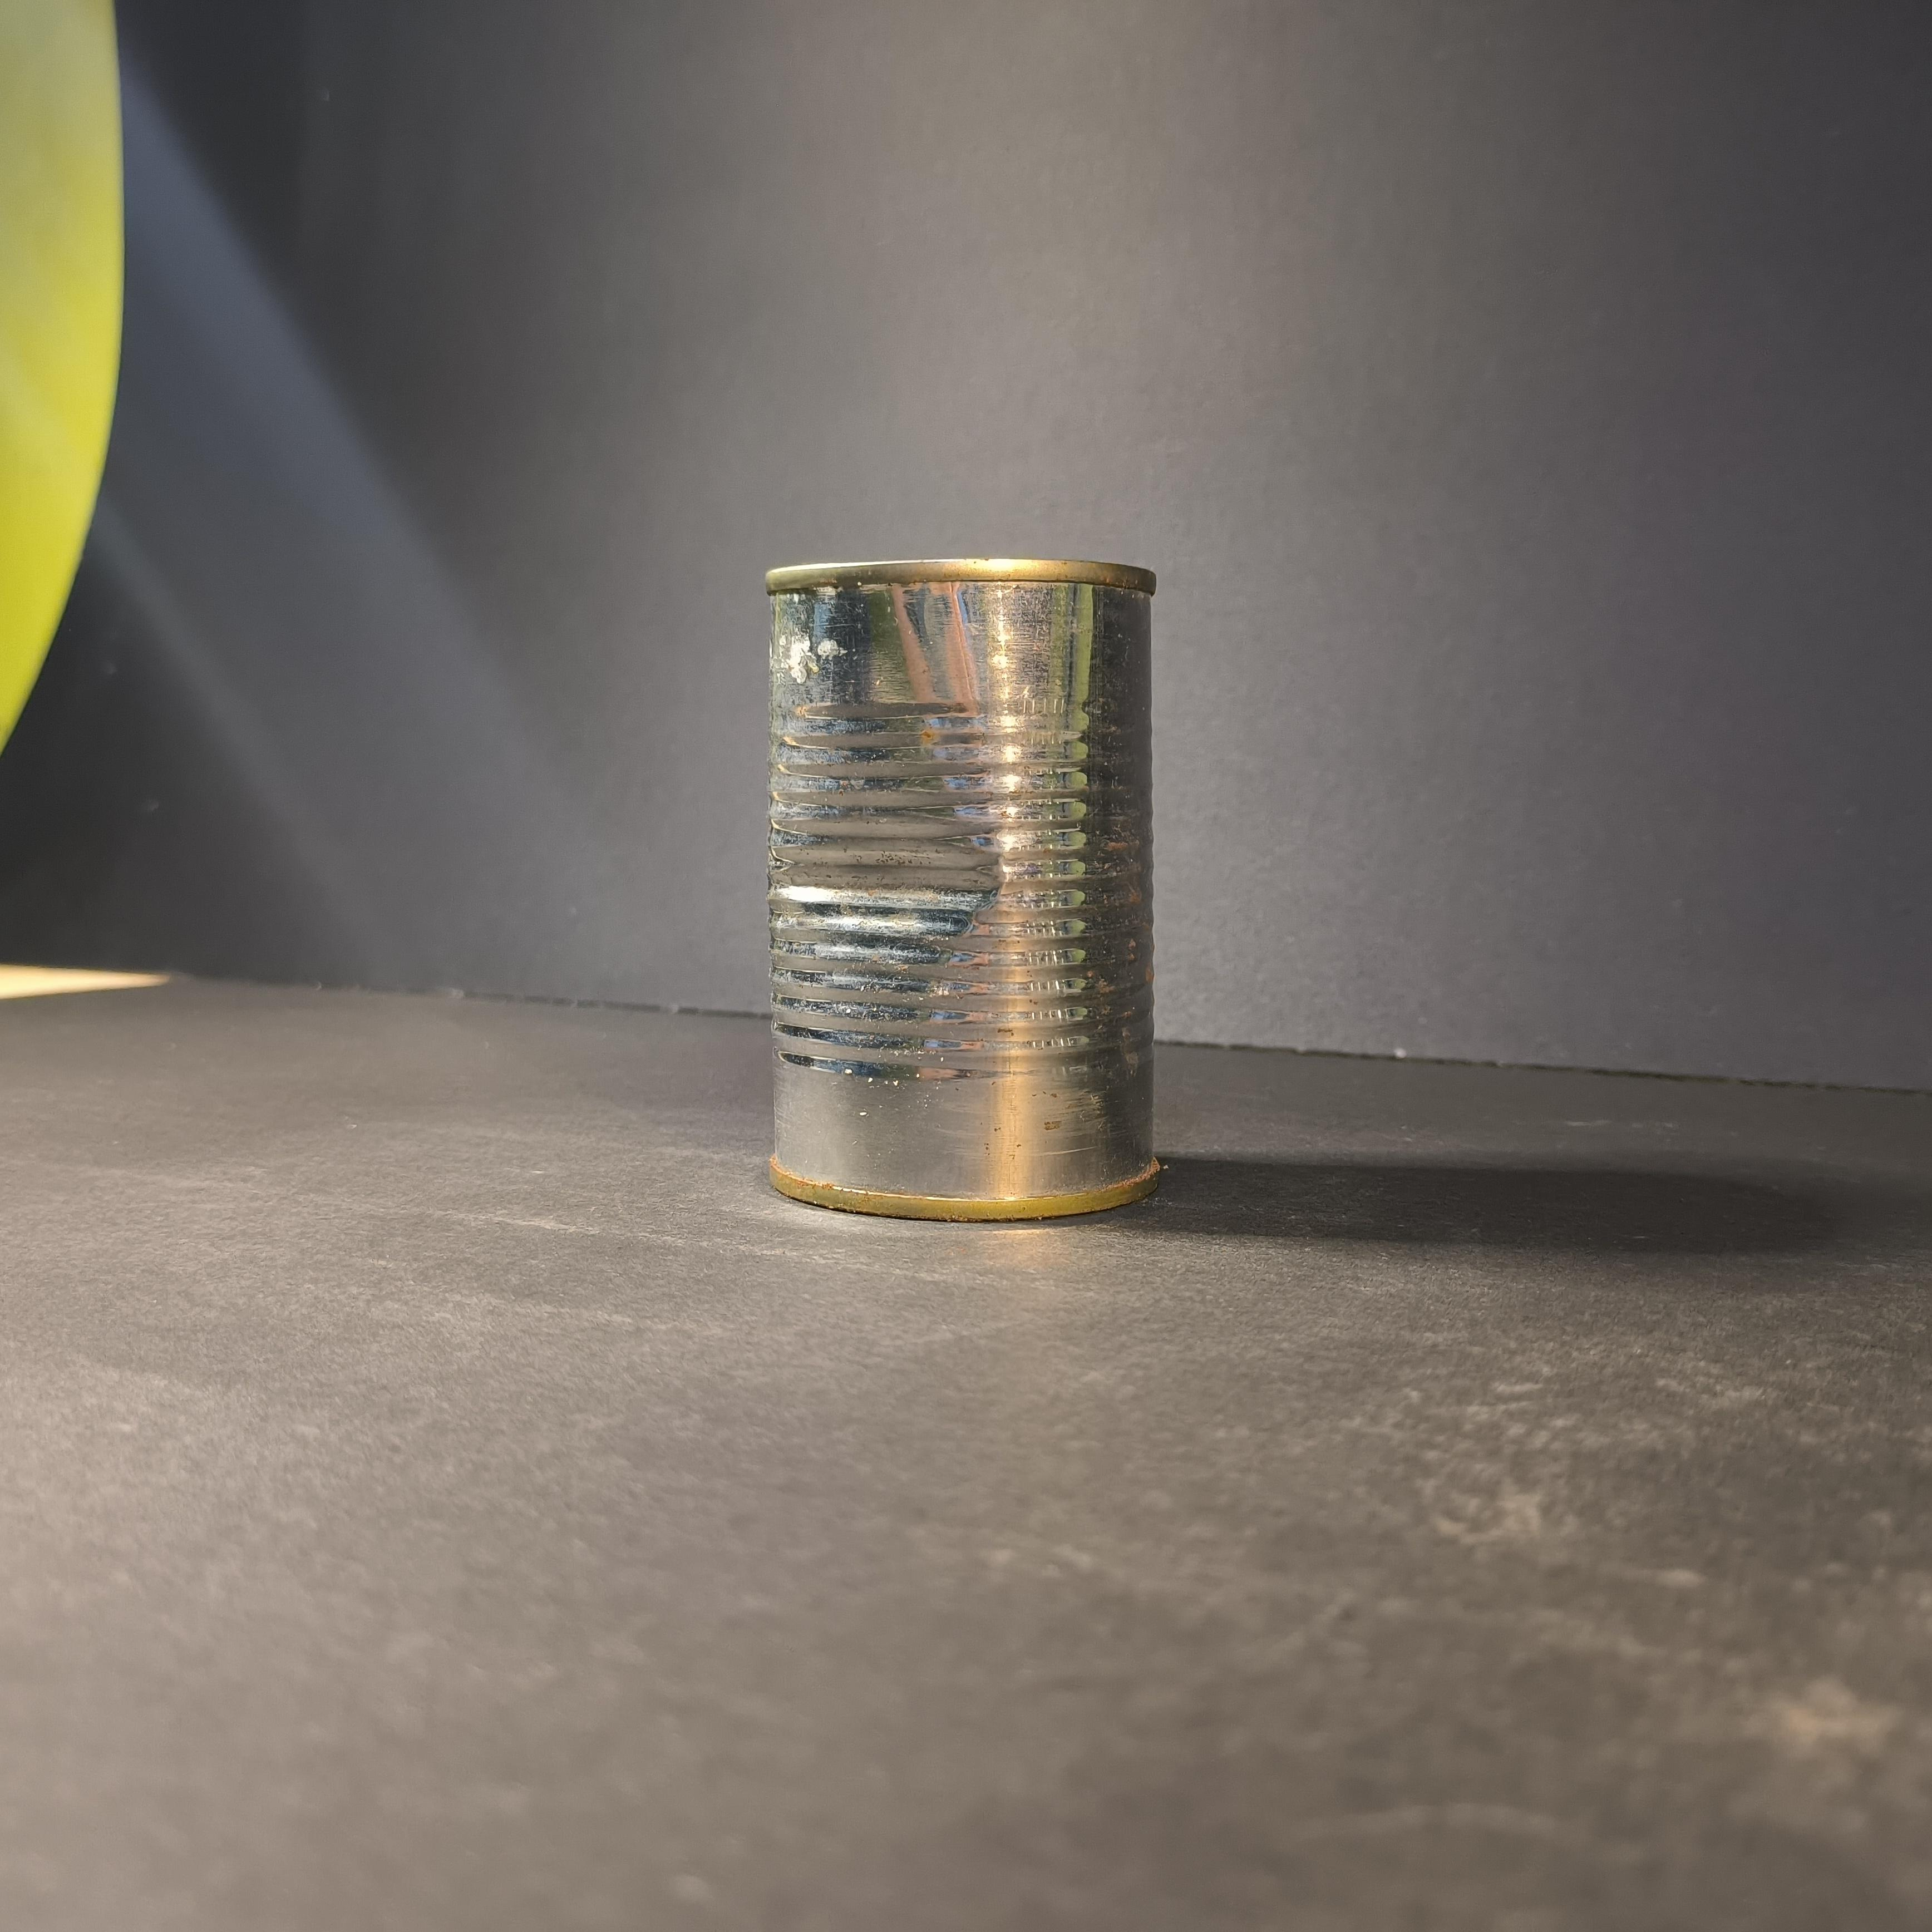Minor Defect: (759, 550, 1164, 1228)
